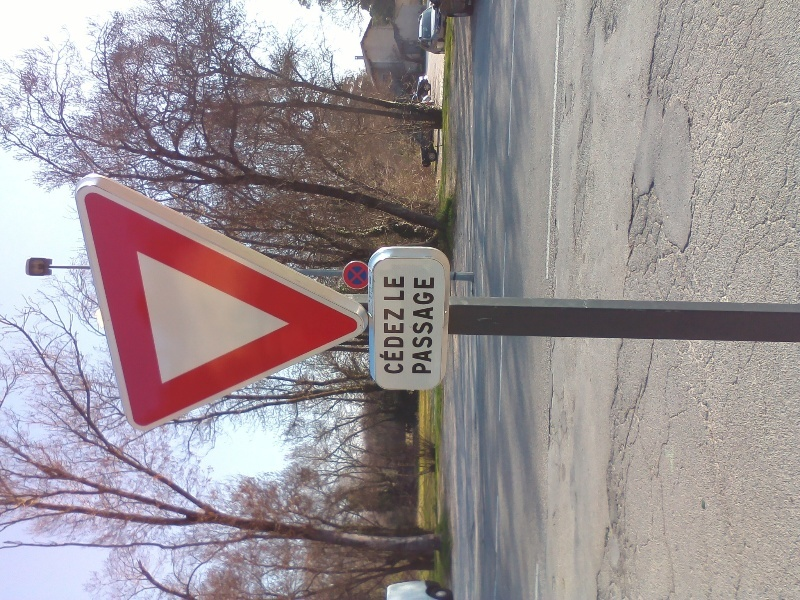text: (417, 276, 432, 377), (385, 307, 400, 375), (401, 307, 407, 375), (385, 275, 400, 301), (379, 307, 384, 375), (413, 276, 416, 377), (433, 276, 436, 377), (401, 275, 405, 301), (383, 275, 384, 301)
